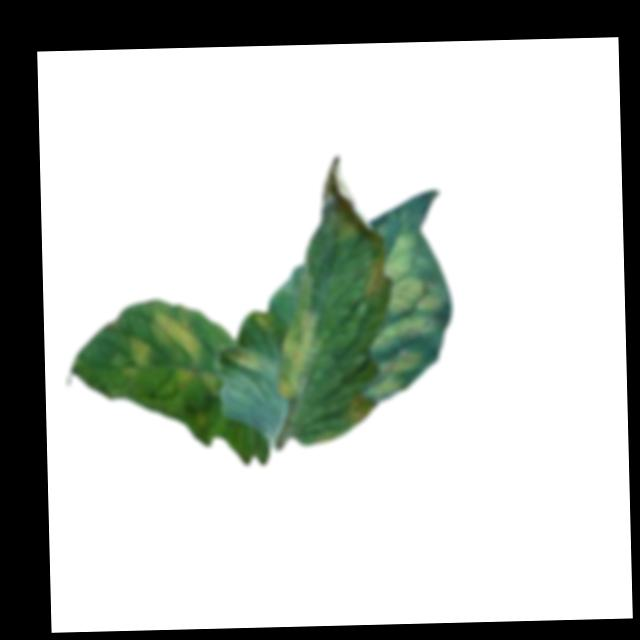Leaf_Mold: (360, 228, 443, 401), (272, 305, 319, 399), (149, 308, 203, 365), (360, 229, 384, 298), (117, 333, 152, 378), (173, 366, 217, 396), (227, 344, 255, 372)
